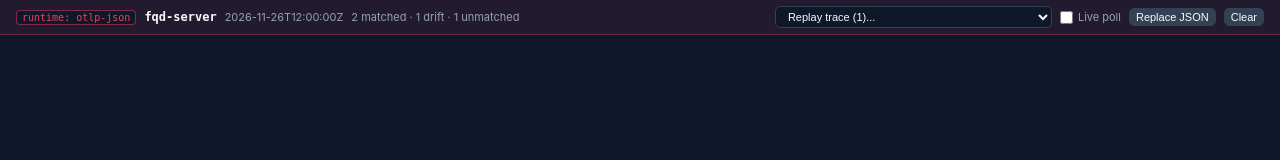
Slice 7 Runtime layer and TraceReplay › surfaces live poll failures and marks stale overlays
Later steps or results of the test are not shown.
Click the checkbox with test id "runtime-live-poll-toggle".
click(1066, 17)  # box [1060, 10, 1073, 24]
Wait 5000 ms
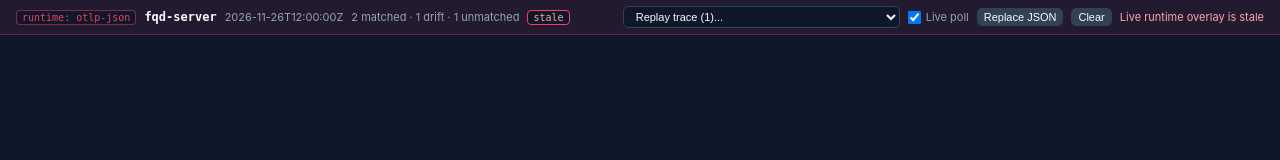
Expected: the text "stale" is shown, [528, 10, 570, 24]
Expected: the text with class "arch-runtime-error" shows "stale", [1120, 10, 1264, 24]
